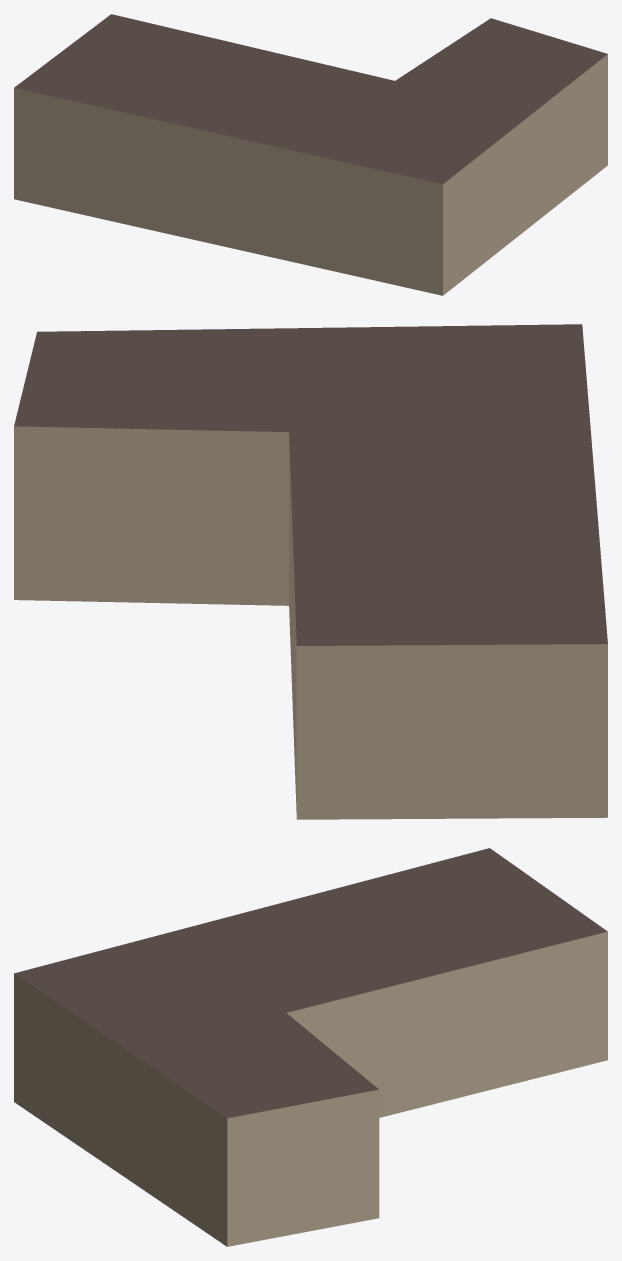
3 renders of one model, top to bottom at view 1: azimuth 30°, elevation 25°; view 2: azimuth 150°, elevation 25°; view 3: azimuth 270°, elevation 25°, orthographic. The views are drawn at different scales.
Visible parts, largest first — view 1: HP-w1512359798; view 2: HP-w1512359798; view 3: HP-w1512359798.
Boxes of the visible parts, x1,y1,x2,y2 form: HP-w1512359798: (14, 14, 607, 295); HP-w1512359798: (14, 324, 607, 819); HP-w1512359798: (14, 848, 607, 1246).
Bounding box in the file's own units: 40.57 × 9 × 37.67.
